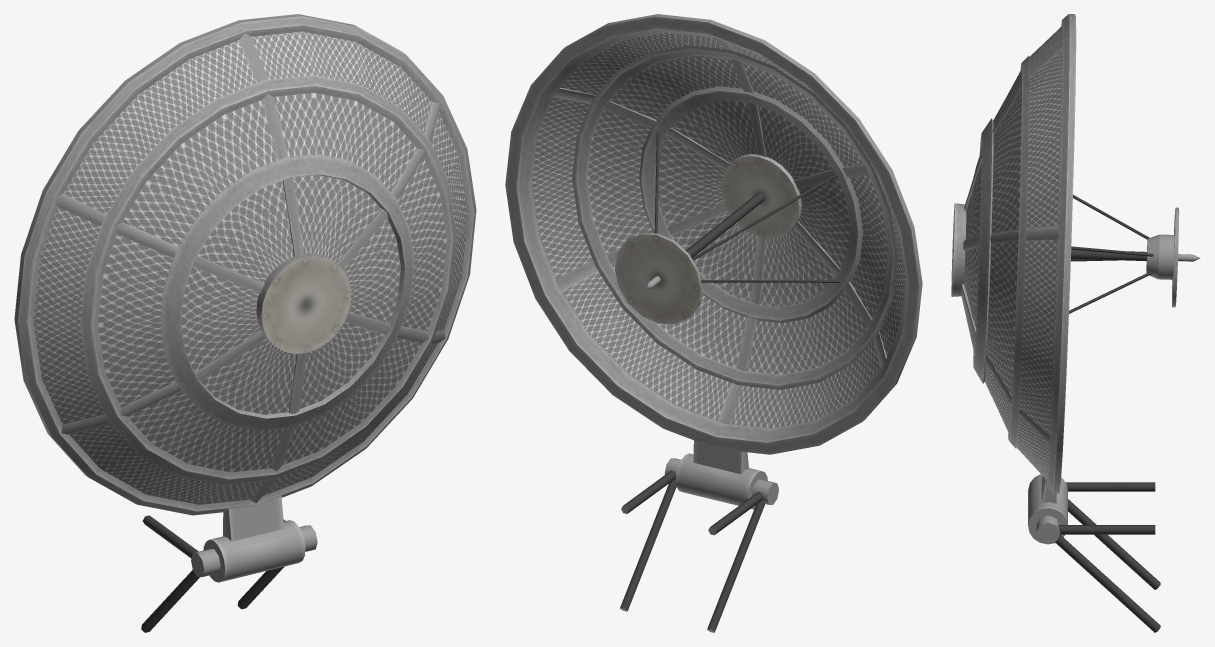
Rendered from RangerDish.dae.
3 renders of one model, left to right at view 1: azimuth 30°, elevation 25°; view 2: azimuth 150°, elevation 25°; view 3: azimuth 270°, elevation 25°, orthographic. The views are drawn at different scales.
Parts seen in each view (by area): view 1: pCylinder111, RangerDish_ncl1_1, RangerDishHinge, Rib11, Rib1, Rib10, DishArm, Rib7, Rib9, Rib8, pCylinder114, pCylinder112 (+1 smaller); view 2: pCylinder110, RangerDish_ncl1_1, FocusPoint, RangerDishHinge, Rib9, Rib7, Rib8, Rib10, pCylinder114, pCylinder114_ncl1_1, DishArm, FocusPole (+5 smaller); view 3: pCylinder111, RangerDish_ncl1_1, FocusPoint, RangerDishHinge, pCylinder114_ncl1_1, pCylinder114, pCylinder113_ncl1_1, Rib7, pCylinder113, Rib8, Rib1, FocusPole (+1 smaller).
Boxes of the visible parts, box(x1,y1,x2,y2) form: pCylinder111: box(33, 31, 468, 504); RangerDish_ncl1_1: box(14, 14, 476, 515); RangerDishHinge: box(203, 520, 305, 582); Rib11: box(56, 193, 264, 293); Rib1: box(239, 33, 303, 256); Rib10: box(61, 330, 266, 434); DishArm: box(223, 496, 284, 541); Rib7: box(336, 102, 439, 269); Rib9: box(250, 353, 306, 502); Rib8: box(344, 312, 445, 343); pCylinder114: box(141, 570, 199, 632); pCylinder112: box(191, 549, 220, 577); pCylinder110: box(531, 32, 905, 428); RangerDish_ncl1_1: box(505, 14, 922, 454); FocusPoint: box(615, 233, 702, 324); RangerDishHinge: box(675, 453, 767, 509); Rib9: box(717, 236, 766, 424); Rib7: box(553, 87, 730, 169); Rib8: box(555, 203, 728, 291); Rib10: box(794, 221, 886, 368); pCylinder114: box(707, 500, 765, 632); pCylinder114_ncl1_1: box(620, 479, 676, 611); DishArm: box(693, 440, 748, 474); FocusPole: box(686, 193, 764, 257); pCylinder111: box(963, 26, 1062, 480); RangerDish_ncl1_1: box(951, 14, 1076, 493); FocusPoint: box(1146, 207, 1179, 307); RangerDishHinge: box(1028, 474, 1067, 544); pCylinder114_ncl1_1: box(1055, 534, 1160, 632); pCylinder114: box(1068, 499, 1160, 589); pCylinder113_ncl1_1: box(1058, 525, 1155, 534); Rib7: box(963, 226, 1058, 250); pCylinder113: box(1066, 482, 1155, 491); Rib8: box(961, 284, 1050, 442); Rib1: box(964, 43, 1062, 210); FocusPole: box(1071, 249, 1147, 261).
Bounding box in the file's own units: 0.5516 × 0.7268 × 0.2854.
